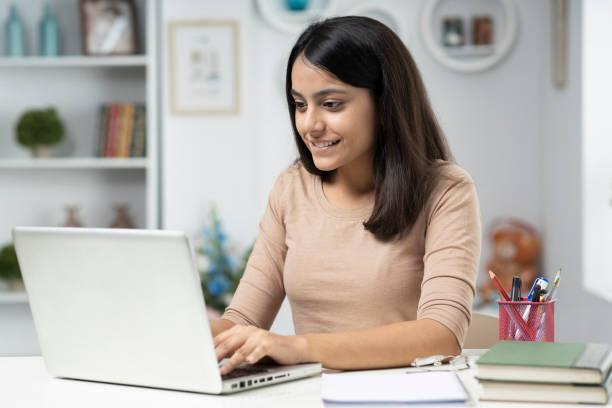no_goggle: (288, 85, 385, 120)
no_helmet: (279, 11, 427, 92)
no_vest: (238, 144, 485, 369)
